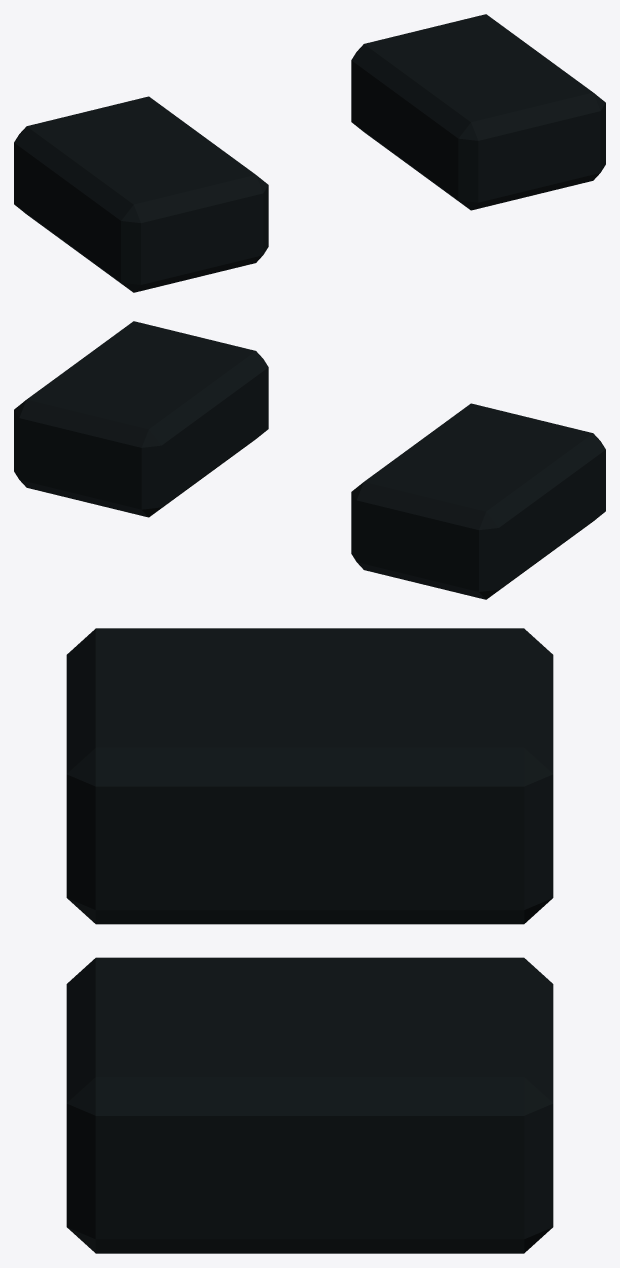
File: Cockpit_Transport__Pedals.obj
3 renders of one model, top to bottom at view 1: azimuth 30°, elevation 25°; view 2: azimuth 150°, elevation 25°; view 3: azimuth 270°, elevation 25°, orthographic. The views are drawn at different scales.
Visible parts, largest first — view 1: Rudder_pedal, Rudder_pedal.001; view 2: Rudder_pedal, Rudder_pedal.001; view 3: Rudder_pedal, Rudder_pedal.001.
Boxes of the visible parts, bbox=[...] form: Rudder_pedal: bbox=[14, 96, 268, 292]; Rudder_pedal.001: bbox=[351, 14, 605, 210]; Rudder_pedal: bbox=[351, 403, 605, 599]; Rudder_pedal.001: bbox=[14, 321, 268, 517]; Rudder_pedal: bbox=[66, 628, 553, 924]; Rudder_pedal.001: bbox=[66, 957, 553, 1253].
Size of the model in its own units: 0.46 by 0.08 by 0.2.
